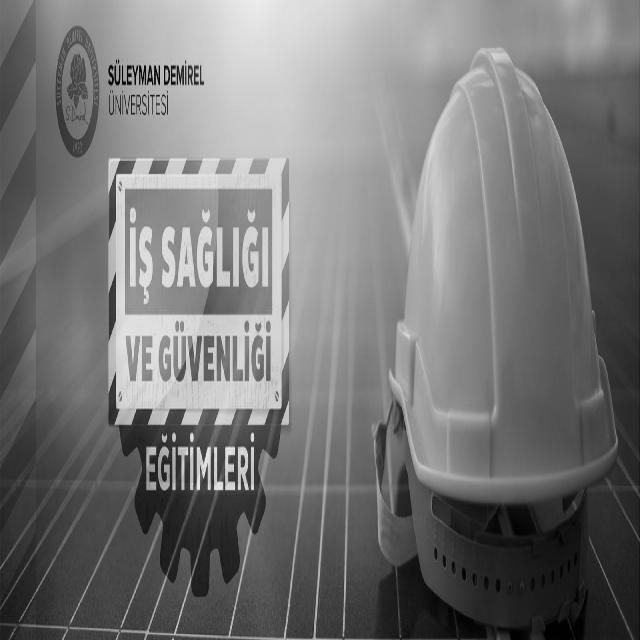safety_helmet: (390, 47, 620, 636)
